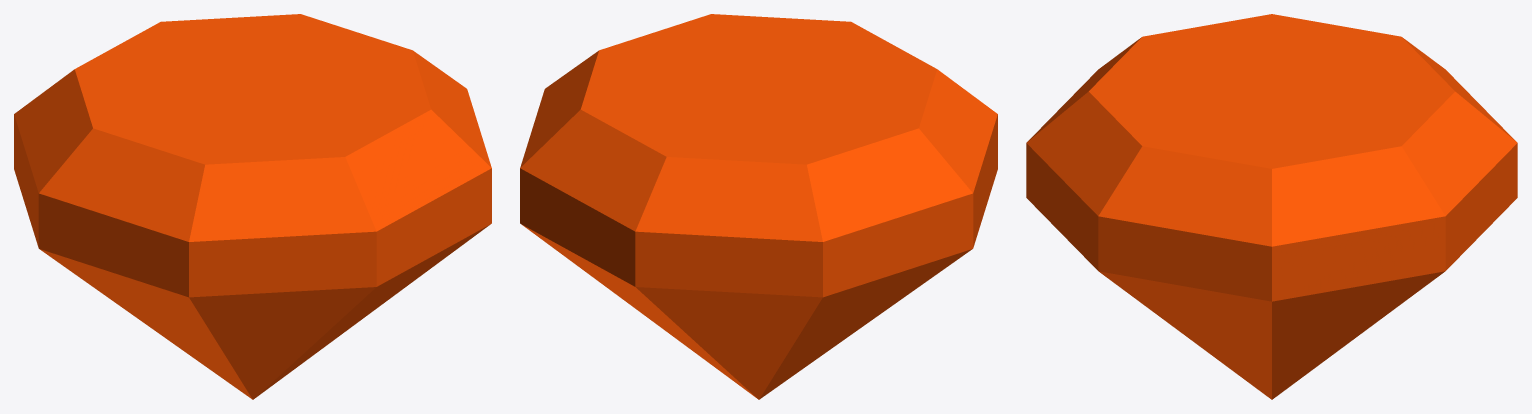
File: daiya1.fbx
The picture shows the model from 3 angles, left to right: view 1: azimuth 30°, elevation 25°; view 2: azimuth 150°, elevation 25°; view 3: azimuth 270°, elevation 25°; orthographic projection.
Visible parts, largest first — view 1: pCylinder2; view 2: pCylinder2; view 3: pCylinder2.
Part boxes in pixels (x1,y1,x2,y2): pCylinder2: (14,14,491,399); pCylinder2: (520,14,997,399); pCylinder2: (1026,14,1517,399).
Bounding box in the file's own units: 2.53 × 1.75 × 2.53.
